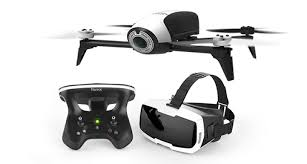Drone: (36, 4, 291, 81)
